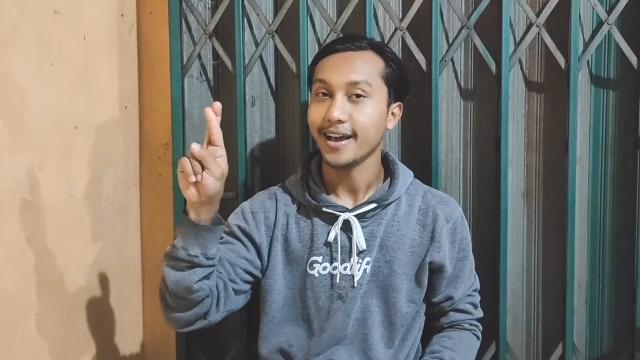R: (173, 93, 233, 207)
